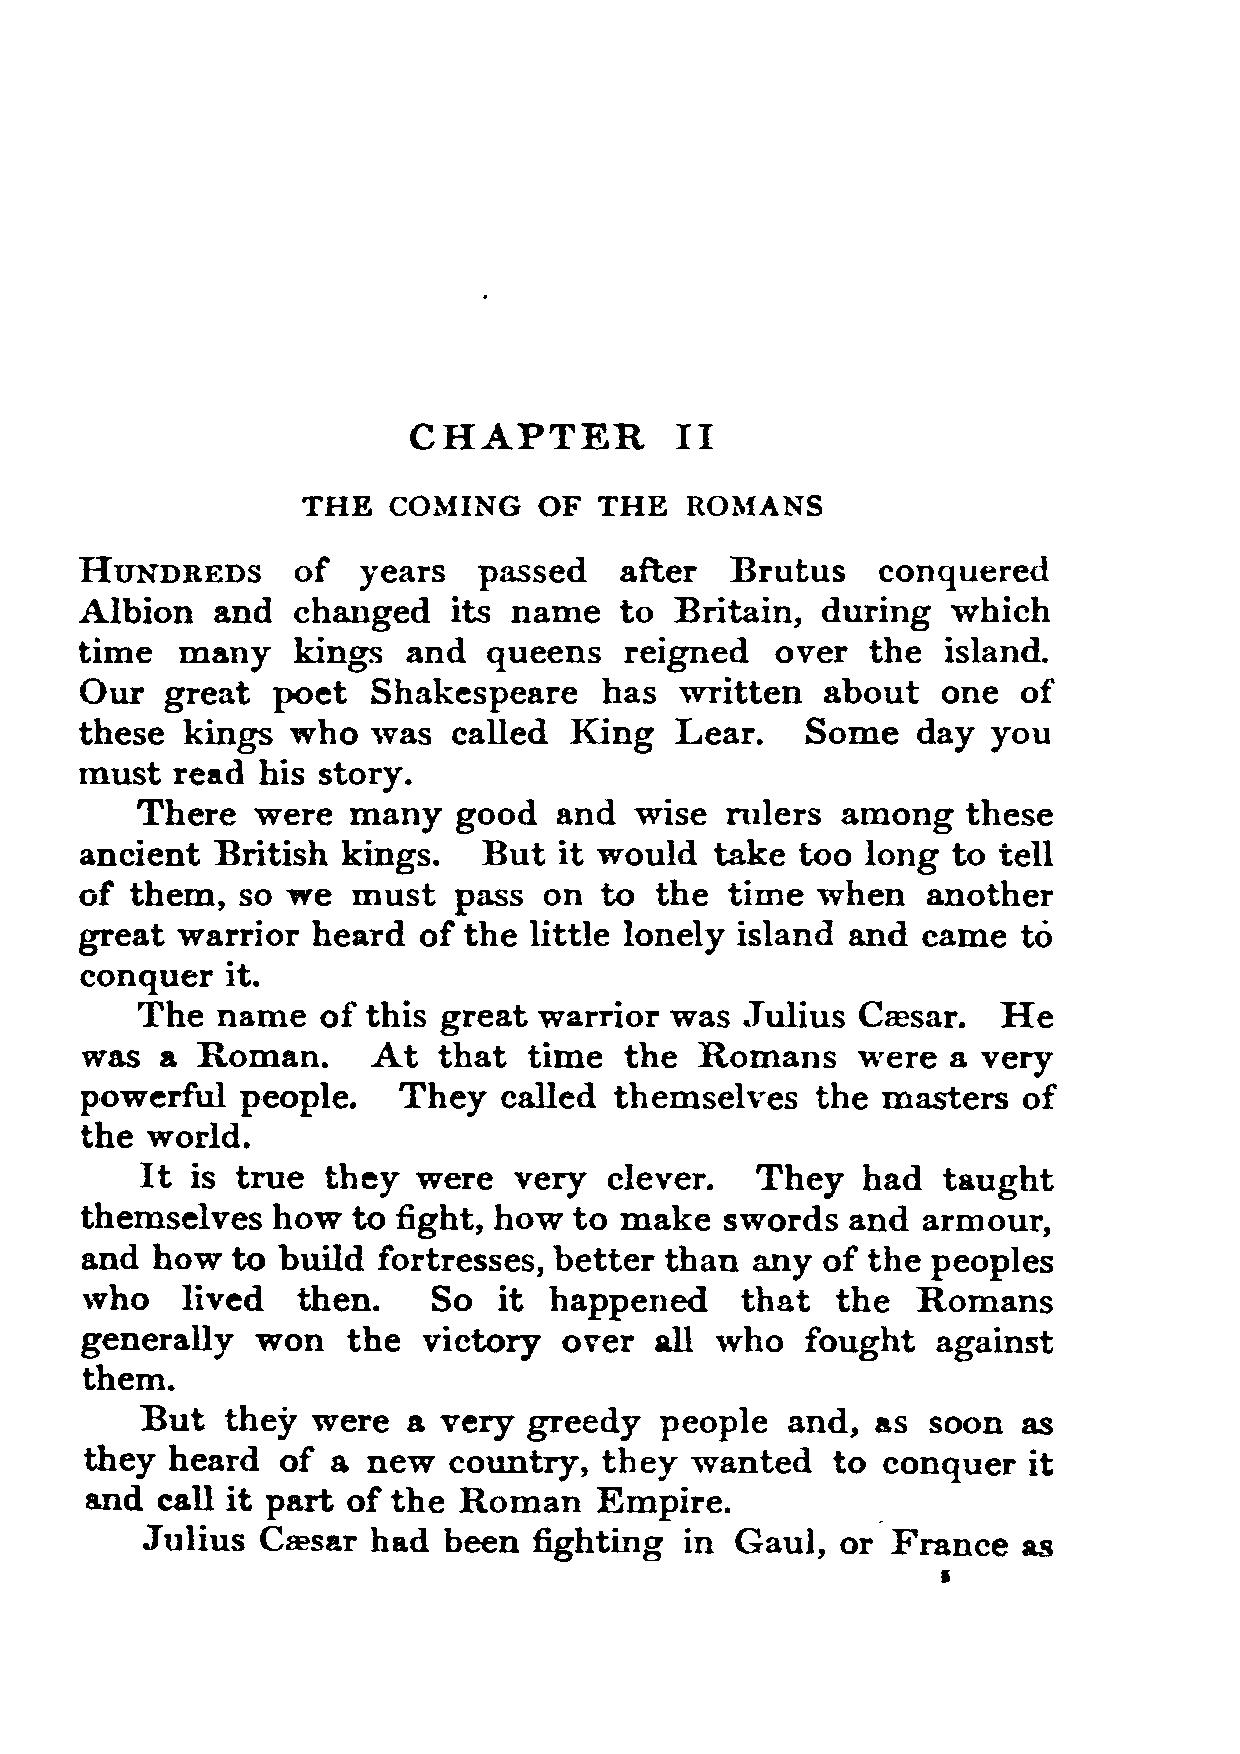chapter: (301, 420, 823, 523)
content: (74, 552, 1055, 1562)
content_pagenumber: (935, 1566, 954, 1586)
